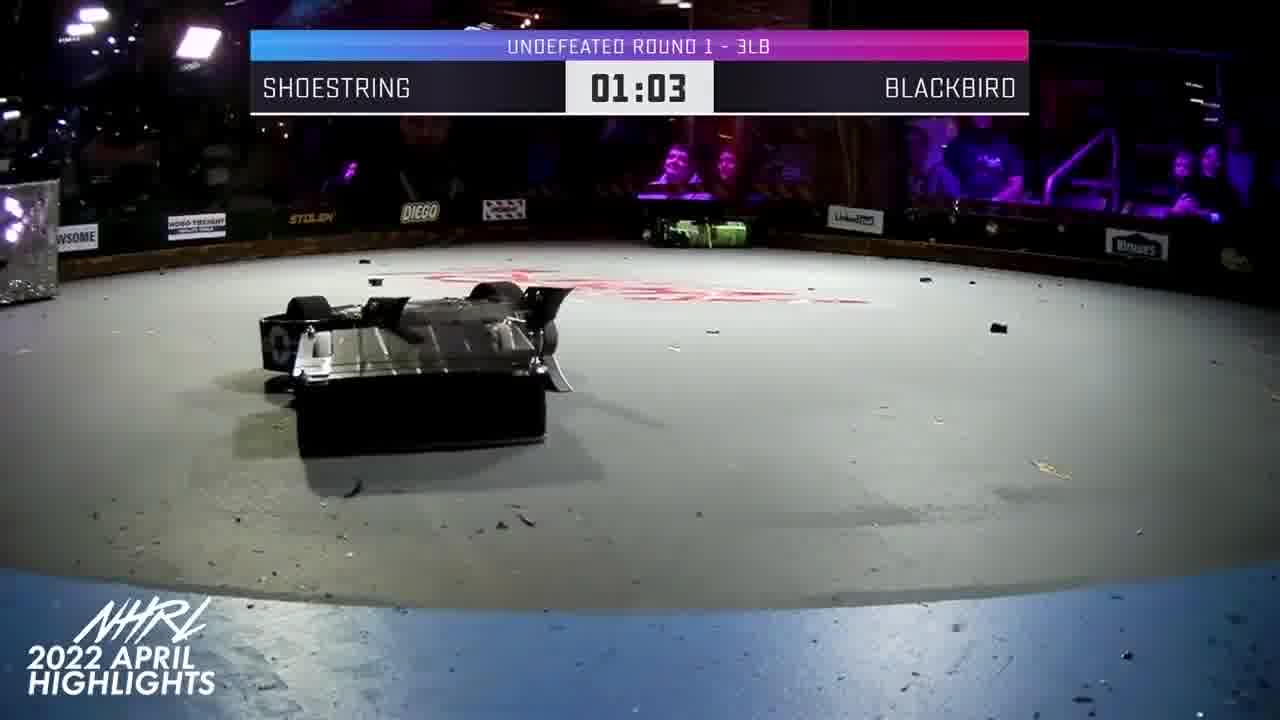combatbot: (248, 279, 578, 401), (282, 322, 561, 454), (640, 217, 753, 250)
housebot: (0, 178, 59, 312)
